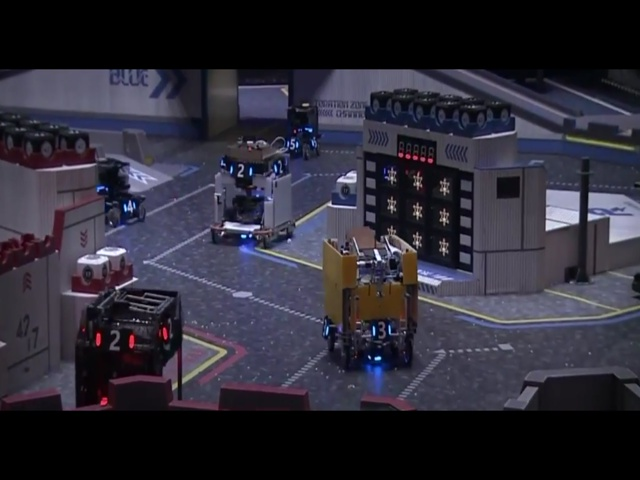plate: (87, 323, 139, 352), (367, 316, 394, 343), (156, 313, 176, 343), (227, 158, 253, 180), (269, 148, 287, 179), (316, 317, 332, 341), (284, 131, 299, 155), (122, 196, 139, 215), (307, 126, 318, 152)
